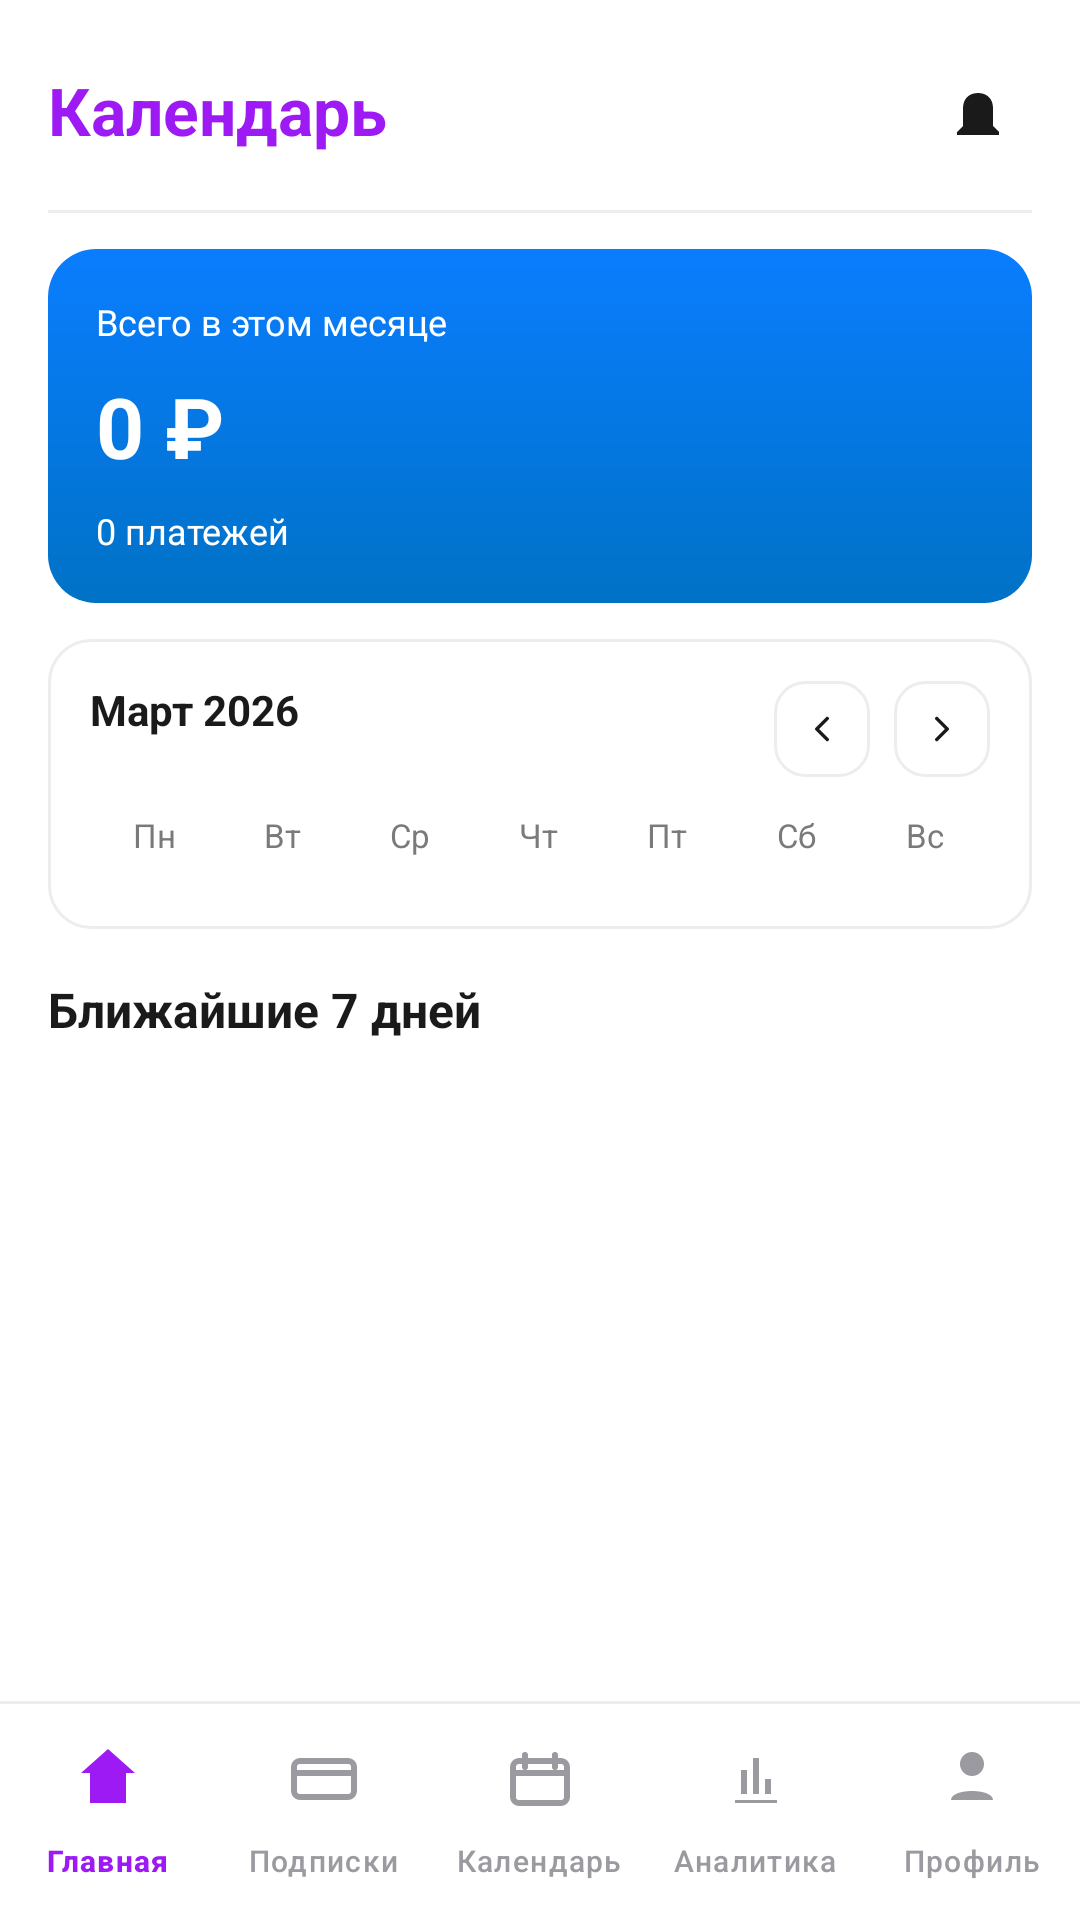

Point at icon controls on the screen. Image size 1080px×1920px, points as [x,y].
bell: [978,114]
chevron left: [822,729]
chevron right: [942,729]
